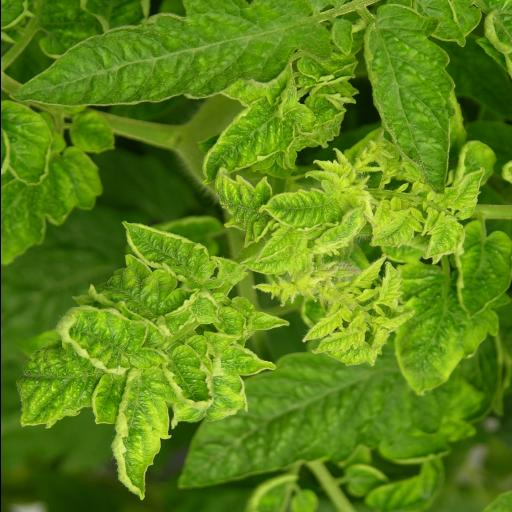Yellow Leaf Curl Virus: (20, 0, 342, 130), (363, 2, 462, 198), (192, 90, 311, 192), (390, 242, 466, 400), (106, 364, 180, 512), (42, 294, 154, 378), (112, 216, 228, 292), (18, 352, 112, 442), (453, 218, 512, 321), (160, 326, 220, 424), (214, 169, 278, 249), (262, 179, 344, 237), (0, 98, 52, 185), (242, 228, 319, 276), (310, 206, 366, 256), (368, 204, 426, 250), (438, 168, 486, 220), (421, 210, 467, 262), (63, 112, 119, 154), (220, 346, 280, 378), (344, 253, 388, 296), (303, 302, 344, 348), (208, 254, 250, 296), (186, 288, 222, 328), (376, 261, 405, 309), (323, 326, 364, 358), (210, 304, 248, 338), (246, 312, 296, 334)
